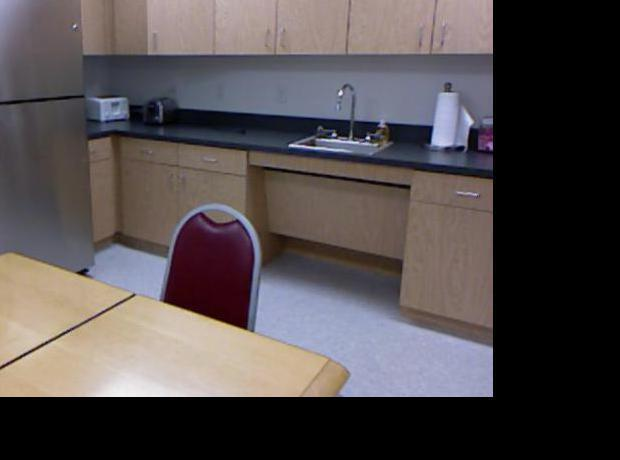Electrodomestico: (0, 0, 98, 290)
Lavaplatos: (285, 81, 398, 165)
